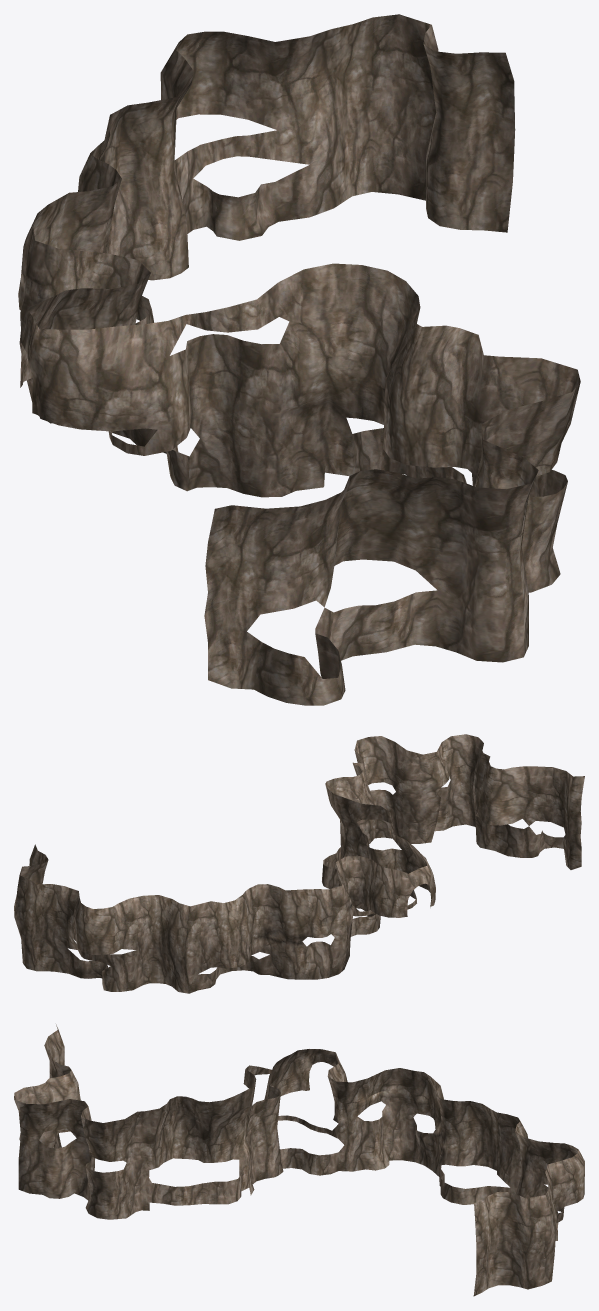
File: EKH_CAVERNS_PS_CA_OBJECT32.fbx
3 renders of one model, top to bottom at view 1: azimuth 30°, elevation 25°; view 2: azimuth 150°, elevation 25°; view 3: azimuth 270°, elevation 25°, orthographic. The views are drawn at different scales.
Parts seen in each view (by area): view 1: EKH_CAVERNS_PS_CA_OBJECT32; view 2: EKH_CAVERNS_PS_CA_OBJECT32; view 3: EKH_CAVERNS_PS_CA_OBJECT32.
Part boxes in pixels (box(x1,y1,x2,y2)): EKH_CAVERNS_PS_CA_OBJECT32: box(18, 14, 580, 705); EKH_CAVERNS_PS_CA_OBJECT32: box(14, 734, 584, 993); EKH_CAVERNS_PS_CA_OBJECT32: box(14, 1024, 584, 1296).
Size of the model in its own units: 367234 by 108357 by 495380.
Materials: 1 (1 with a texture image).
